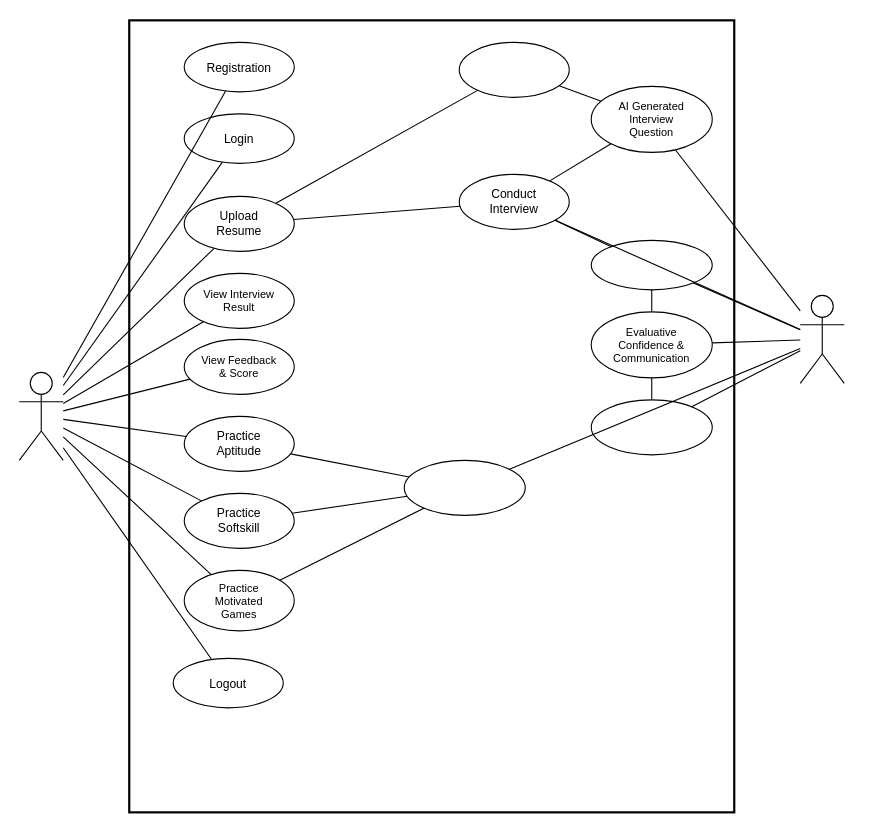
This 881x832 diagram has some shape labels left out. Here are the shapes that lost their labels. From the top down, the centre of each, then its label:
At (513,69): "Resume Analysis".
At (651,264): "Analyze Answer".
At (821,338): "AI Interviewer".
At (40,415): "USER".
At (651,427): "Generate Feedback".
At (464,487): "AI Generated Feedback".
